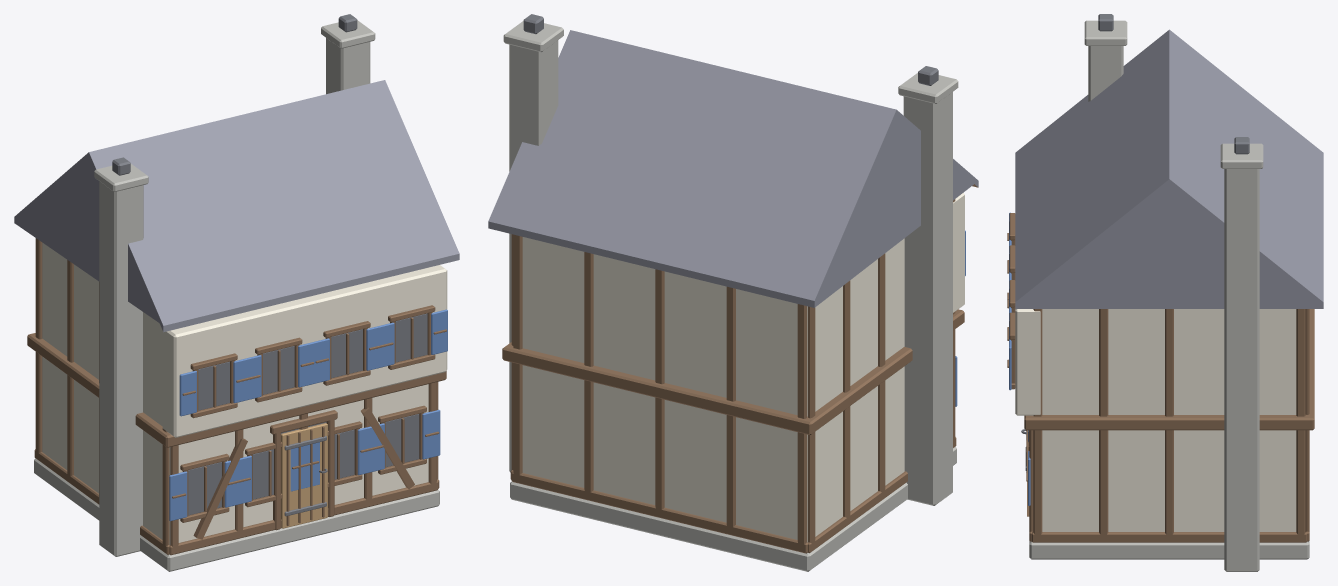
File: timber-house-large.glb
The picture shows the model from 3 angles, left to right: view 1: azimuth 30°, elevation 25°; view 2: azimuth 150°, elevation 25°; view 3: azimuth 270°, elevation 25°; orthographic projection. The views are drawn at different scales.
Visible parts, largest first — view 1: timber-house-large, door/wood, door/timber; view 2: timber-house-large; view 3: timber-house-large.
Boxes of the visible parts, x1,y1,x2,y2 form: timber-house-large: (14,14,459,571); door/wood: (281,423,327,528); door/timber: (286,426,324,525); timber-house-large: (488,14,978,571); timber-house-large: (1007,14,1323,571).
Size of the model in its own units: 8.64 by 10.36 by 6.98.
